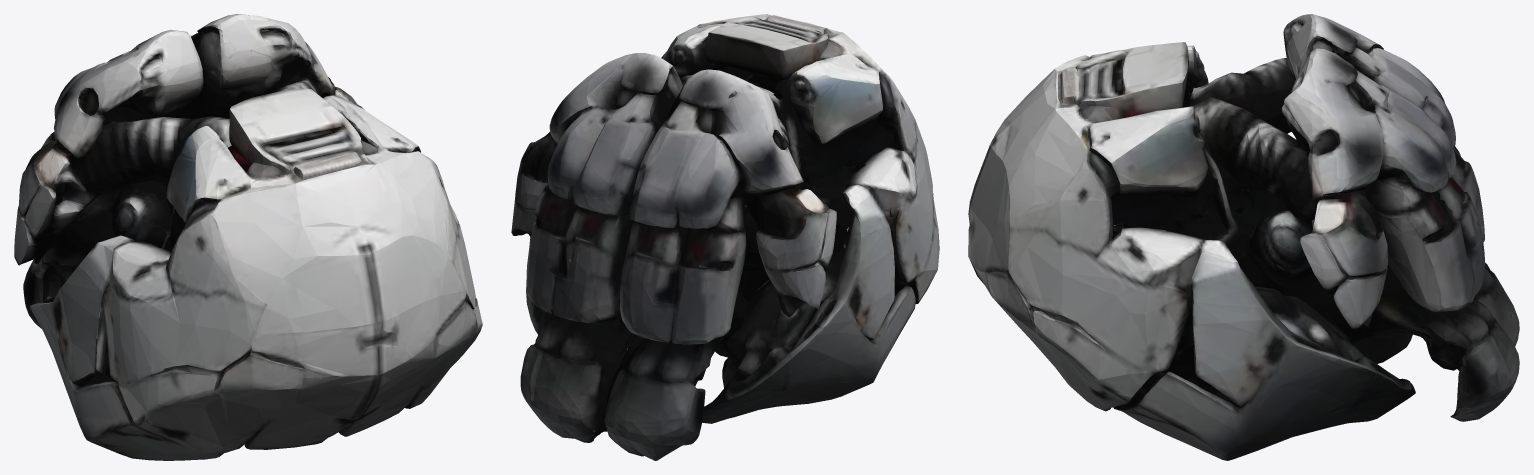
Rendered from prop_hangar_fist.glb.
3 views of the same model, side by side, from view 1: azimuth 30°, elevation 25°; view 2: azimuth 150°, elevation 25°; view 3: azimuth 270°, elevation 25° (orthographic). The views are drawn at different scales.
Visible parts, largest first — view 1: geometry_0; view 2: geometry_0; view 3: geometry_0.
Boxes of the visible parts, x1,y1,x2,y2 form: geometry_0: [14, 14, 482, 460]; geometry_0: [511, 14, 939, 460]; geometry_0: [968, 14, 1519, 460].
Size of the model in its own units: 0.706 by 0.7393 by 0.9967.
Materials: 1 (1 with a texture image).
